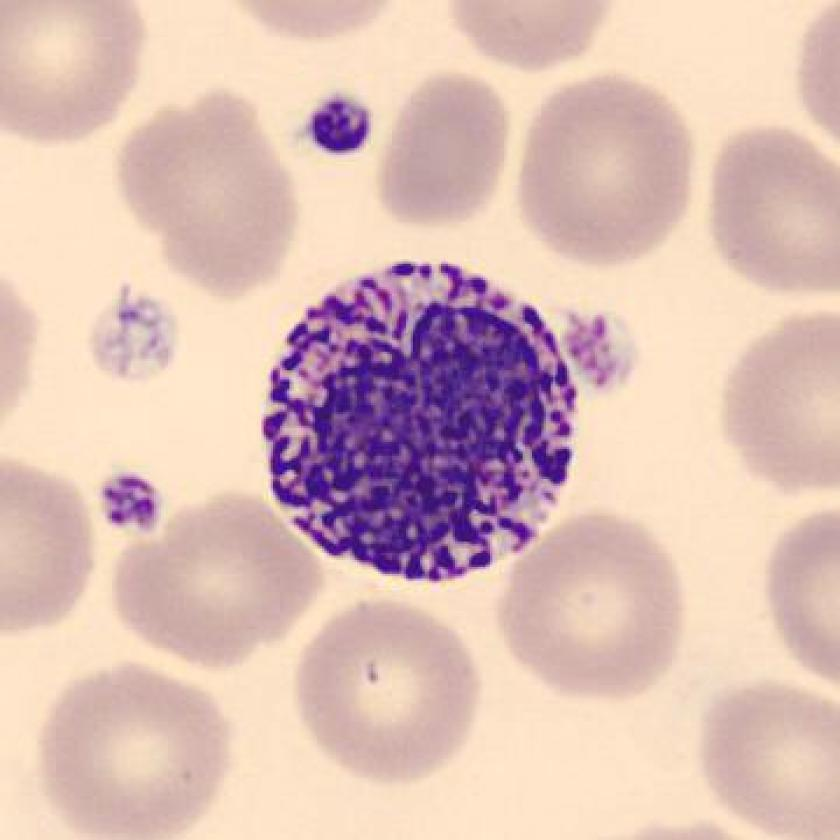basophil: (248, 249, 603, 584)
